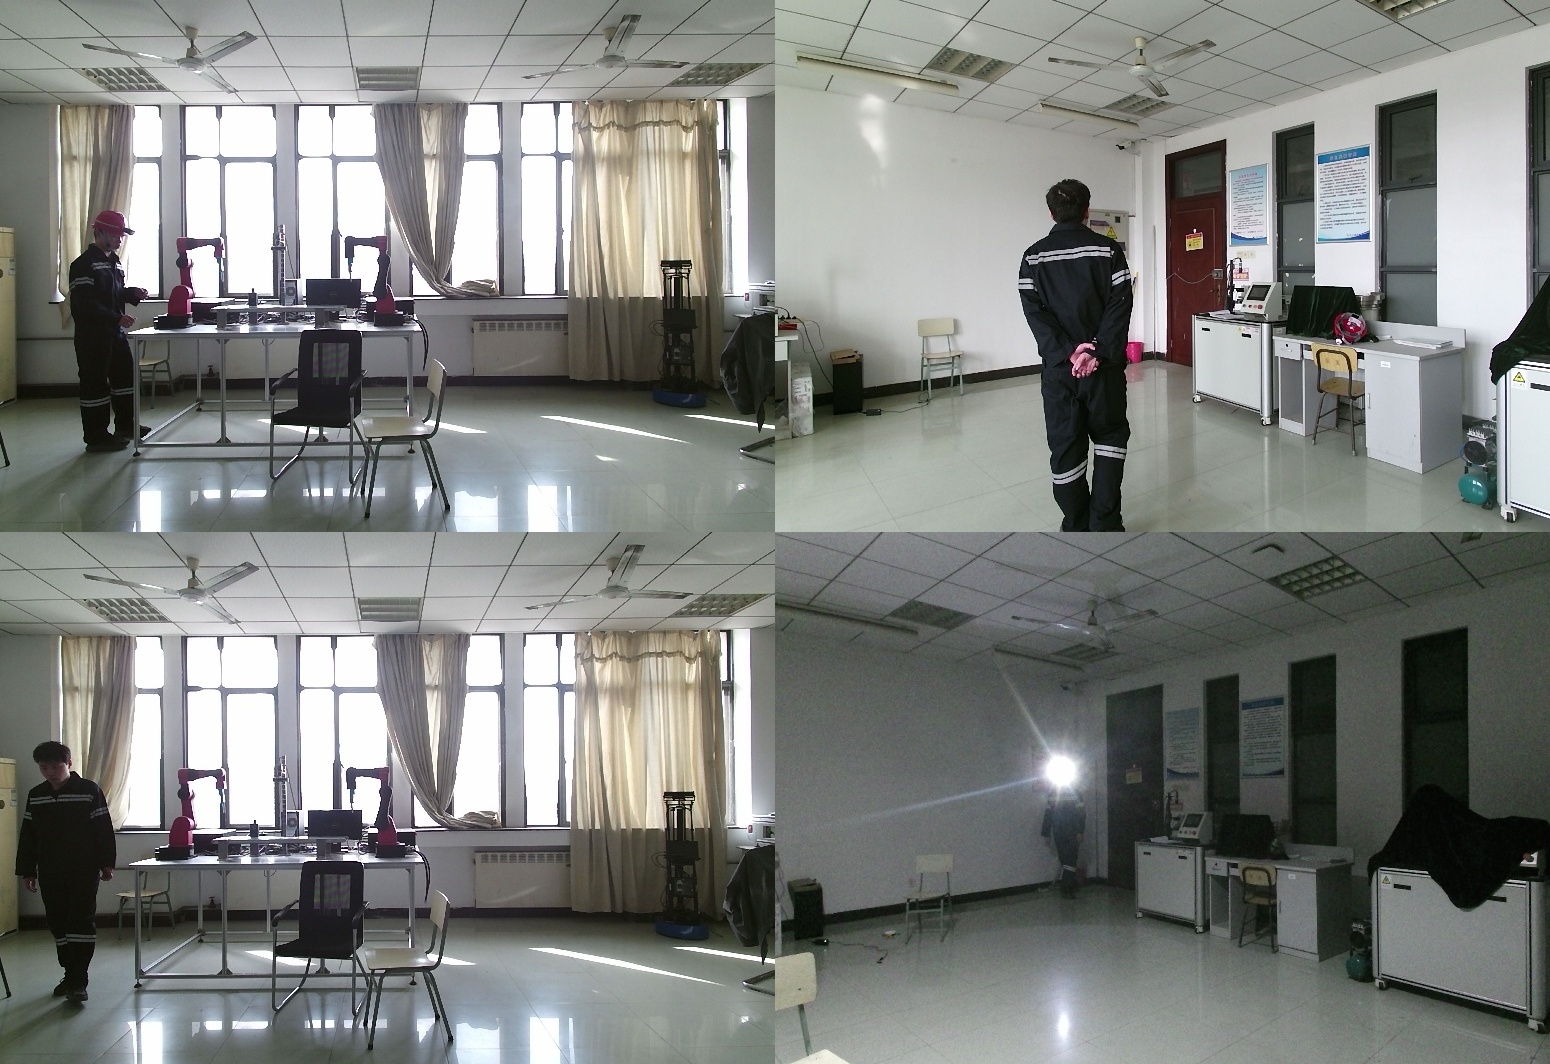person: (1015, 178, 1147, 532), (16, 741, 120, 997), (59, 210, 157, 458), (1041, 768, 1089, 898)
